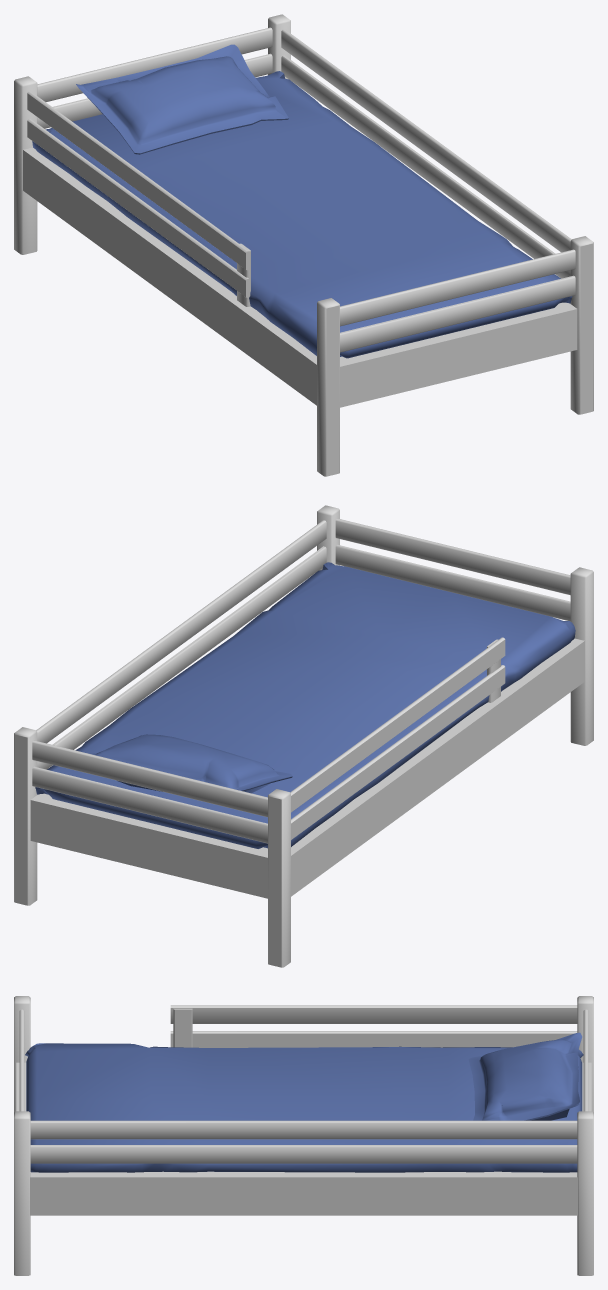
File: SMBD01.FBX
The picture shows the model from 3 angles, top to bottom: view 1: azimuth 30°, elevation 25°; view 2: azimuth 150°, elevation 25°; view 3: azimuth 270°, elevation 25°; orthographic projection. The views are drawn at different scales.
Visible parts, largest first — view 1: SMBD01; view 2: SMBD01; view 3: SMBD01.
Boxes of the visible parts, <box> form: SMBD01: <box>14,14,593,476</box>; SMBD01: <box>14,505,593,967</box>; SMBD01: <box>14,996,593,1275</box>.
Bounding box in the file's own units: 100 × 200 × 60.08.
